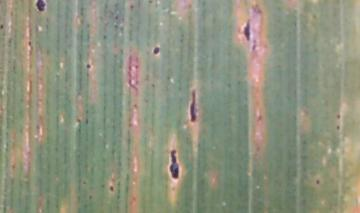tarspot: (164, 147, 183, 181), (186, 86, 200, 126), (238, 17, 254, 46), (32, 1, 51, 13), (150, 44, 162, 58), (311, 176, 323, 186), (334, 122, 344, 133), (1, 22, 9, 34), (84, 61, 93, 71), (106, 184, 115, 194), (25, 38, 34, 48), (334, 112, 342, 123)
